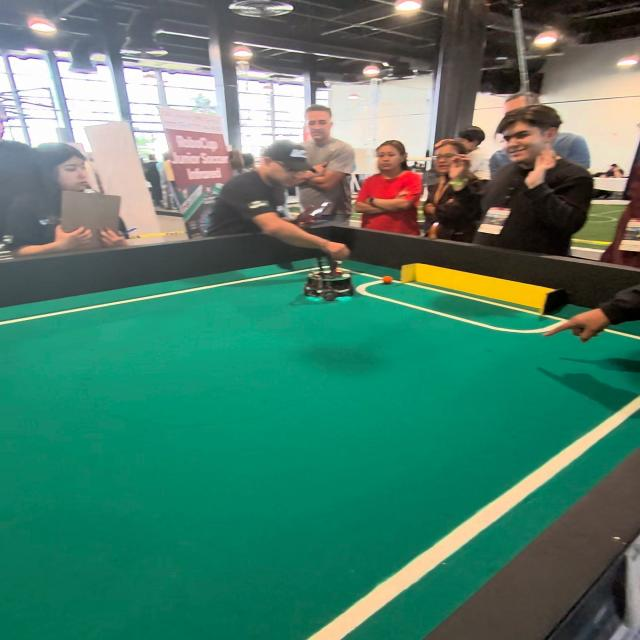Robot: (301, 250, 357, 308)
pelota: (382, 275, 395, 286)
